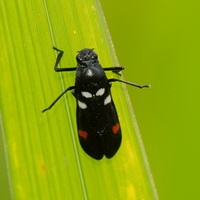insect: (42, 47, 149, 159)
